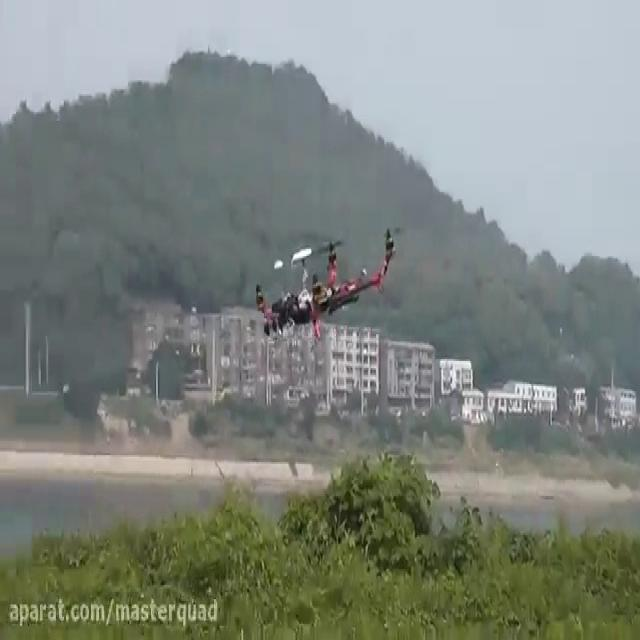drone: (251, 217, 407, 341)
